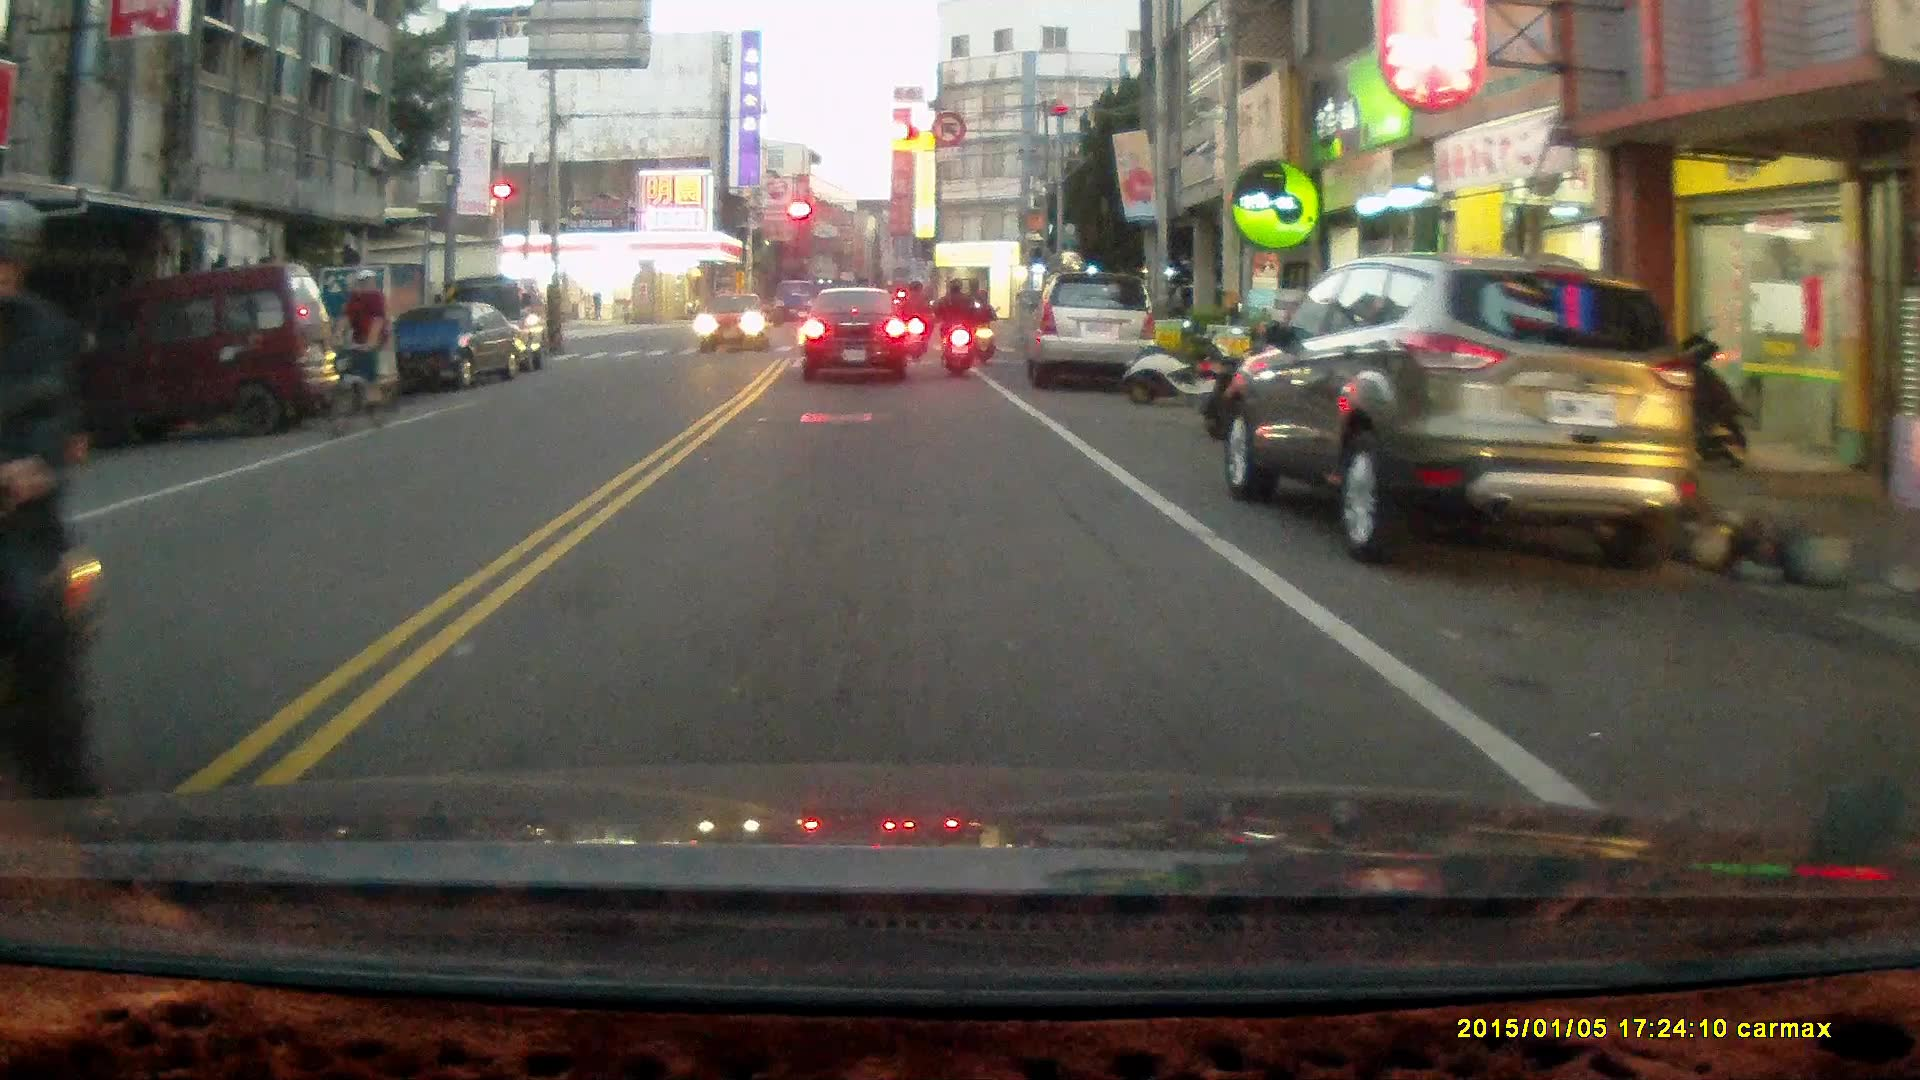rider: (0, 192, 116, 864), (328, 268, 391, 437), (930, 271, 979, 378), (895, 273, 931, 359), (967, 285, 997, 365)
vehicle: (1221, 254, 1688, 573), (75, 261, 345, 439), (1025, 270, 1160, 391), (396, 297, 517, 390), (802, 282, 913, 383), (698, 290, 772, 355)
